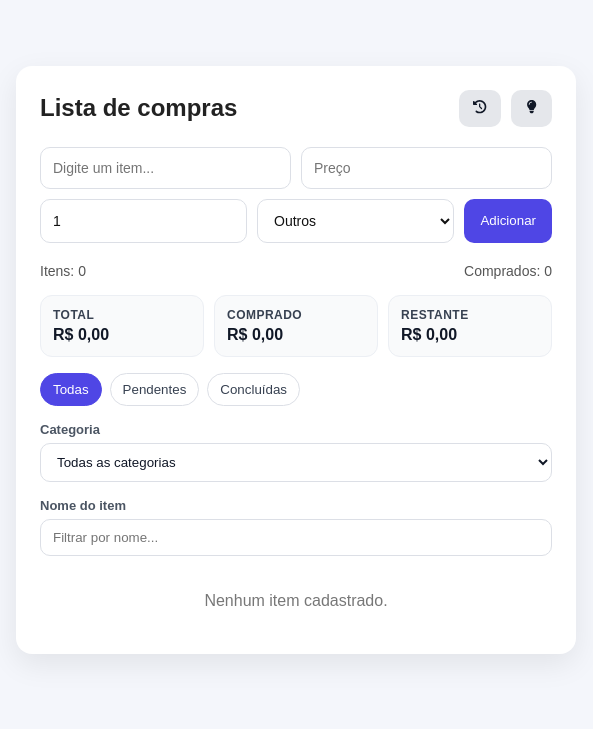
Test: Shopping app › clears the entire history
In the field with placeholder "Digite um item...": x=166, y=168 [40,147,291,189], type "Leite"
In the number field with placeholder "Preço": x=426, y=168 [301,147,552,189], type "7"
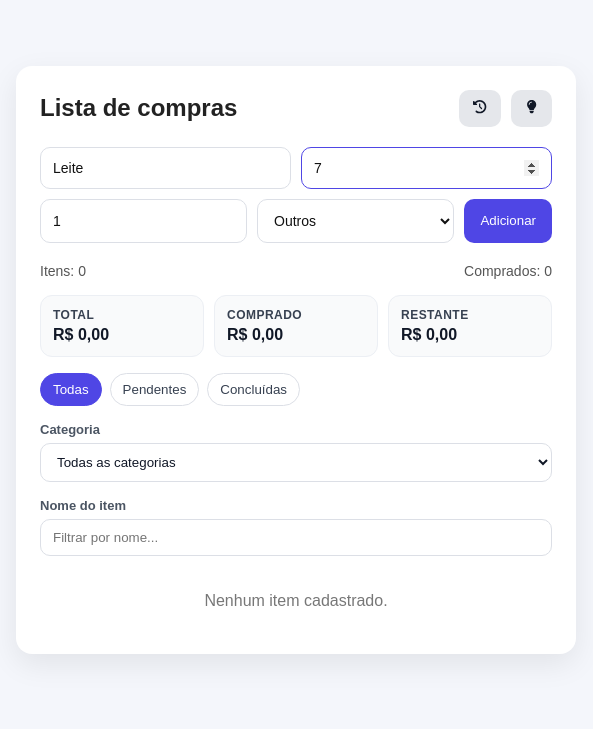
Click the button "Adicionar": x=508, y=221 [464,199,552,243]
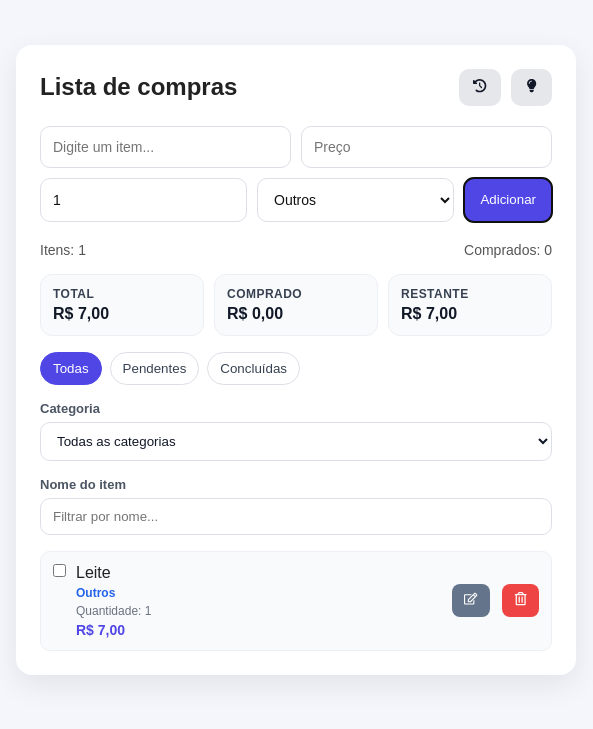
Click the checkbox: x=60, y=570 [53,564,66,577]
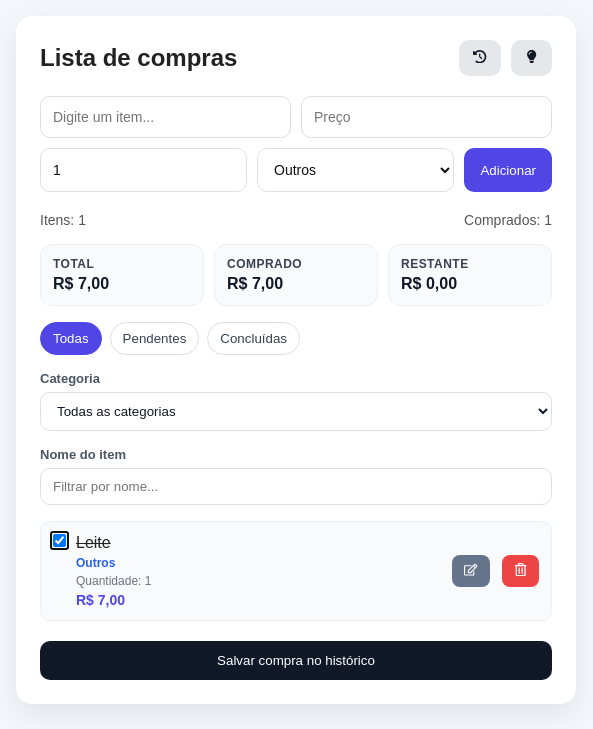
Click the button "Salvar compra no histórico": x=296, y=661 [40,641,552,680]
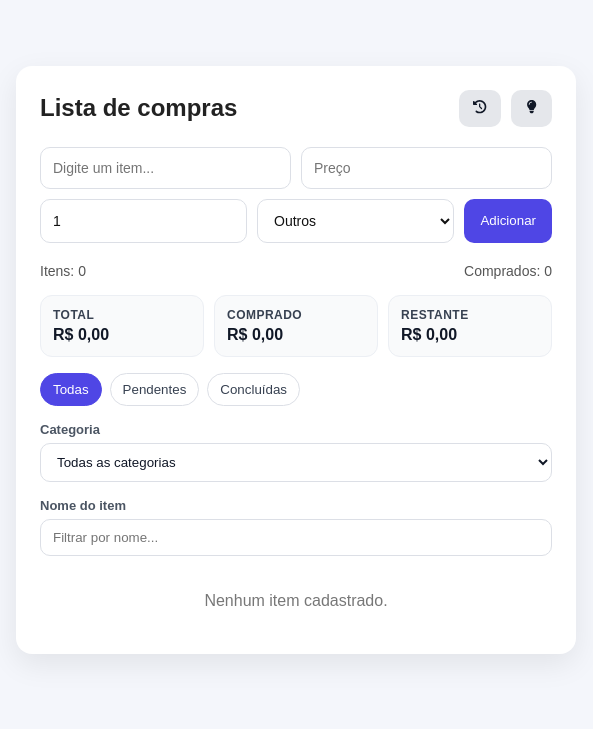
Click the button named "Ir para hist": x=480, y=108 [459,90,501,127]
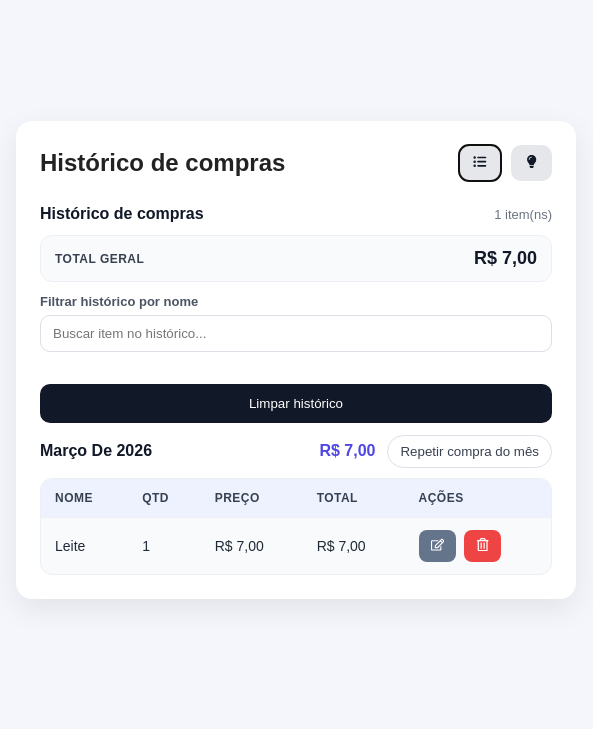
Click the button "Limpar histórico": x=296, y=404 [40,384,552,423]
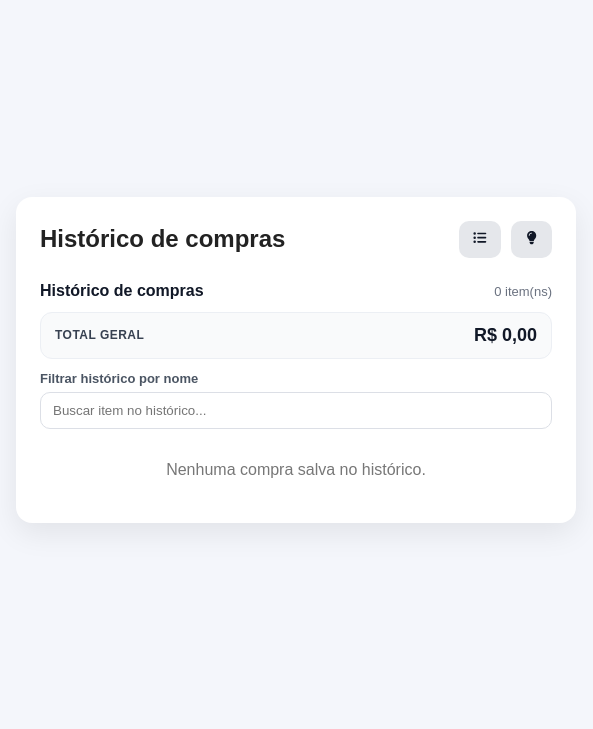
expect the text "Total geral" is shown: met, box [55,328,144,342]
expect the text "Nenhuma compra salva no histórico." is shown: met, box [166,461,426,478]
expect the text "R$ 0,00" is shown: met, box [474,325,537,346]
